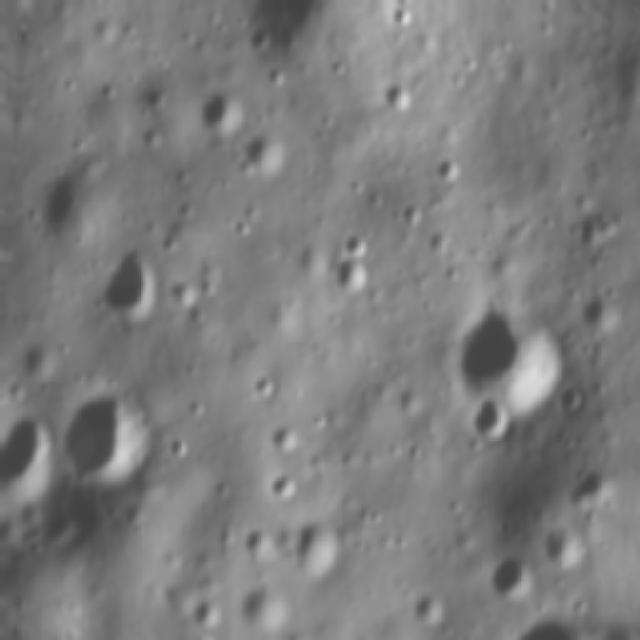crater: (446, 298, 574, 420), (53, 381, 165, 493), (233, 0, 356, 71), (23, 164, 119, 253), (0, 396, 71, 516), (84, 242, 168, 336), (282, 506, 346, 586), (498, 601, 618, 640), (477, 542, 540, 612), (231, 572, 292, 636), (192, 82, 251, 147), (531, 512, 589, 577), (565, 194, 623, 255), (236, 124, 296, 182), (562, 453, 616, 516), (323, 251, 382, 306), (460, 385, 517, 441), (28, 499, 82, 553), (259, 461, 303, 517), (373, 73, 421, 124), (324, 222, 378, 266), (578, 285, 622, 338), (264, 410, 308, 461), (184, 584, 228, 634), (160, 268, 202, 318), (407, 582, 444, 636), (243, 361, 285, 407), (238, 521, 280, 567), (424, 147, 465, 190), (382, 4, 416, 41), (164, 425, 196, 464), (136, 79, 166, 118), (185, 391, 209, 422), (244, 628, 276, 638), (52, 619, 88, 623), (637, 88, 640, 135)
